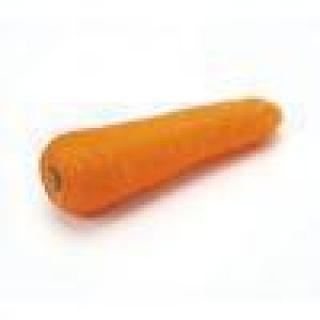Wortel: (24, 94, 293, 225)
